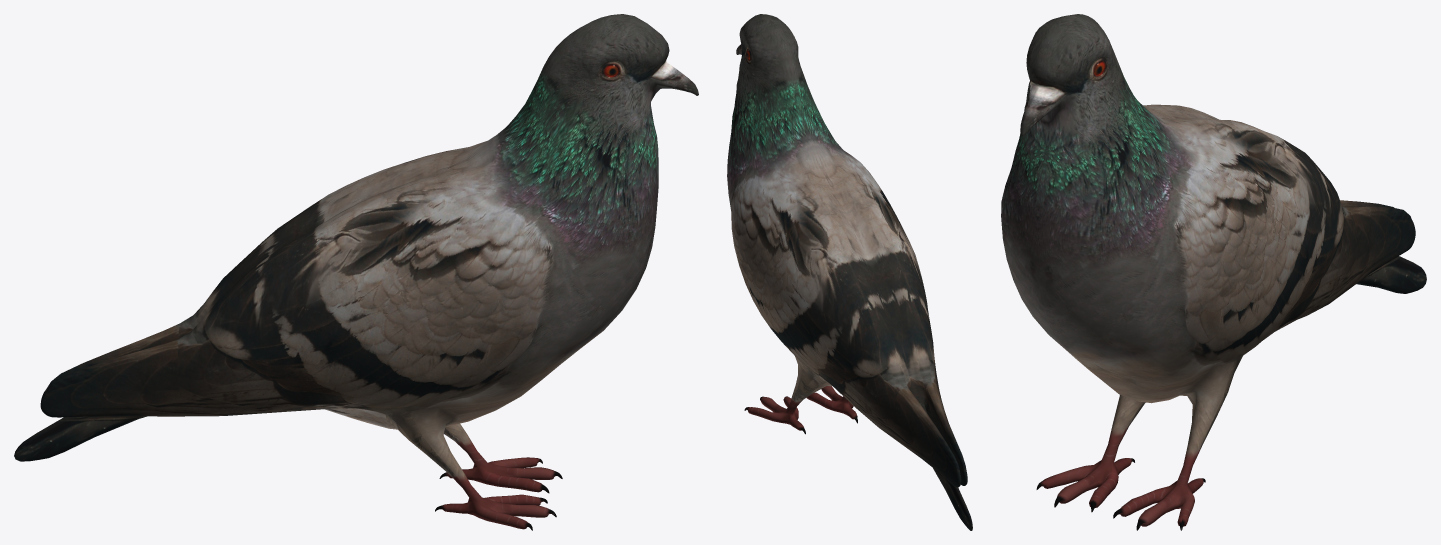
Rendered from pigeon.dae.
3 renders of one model, left to right at view 1: azimuth 30°, elevation 25°; view 2: azimuth 150°, elevation 25°; view 3: azimuth 270°, elevation 25°, orthographic. The views are drawn at different scales.
Parts seen in each view (by area): view 1: prim0; view 2: prim0; view 3: prim0.
Boxes of the visible parts, left/top/right/bottom form: prim0: left=14, top=14, right=698, bottom=530; prim0: left=727, top=14, right=972, bottom=530; prim0: left=1001, top=14, right=1426, bottom=530.
Size of the model in its own units: 0.4382 by 0.2962 by 0.4046.
Materials: 1 (1 with a texture image).
